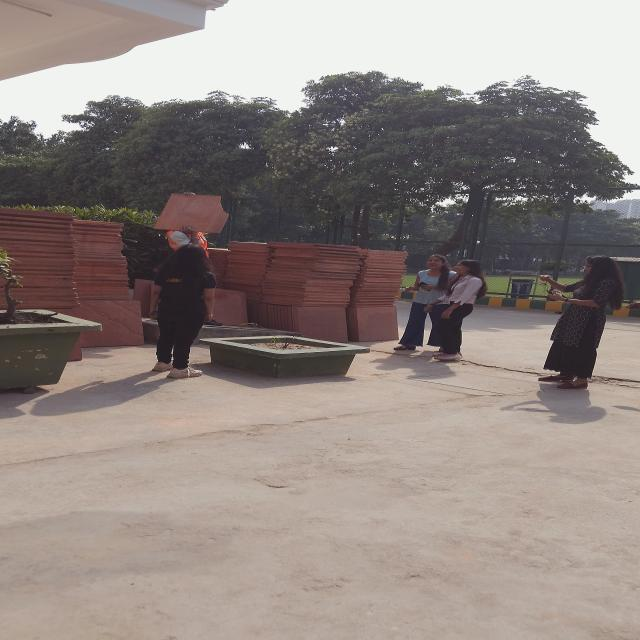unsafe: (533, 255, 624, 389), (142, 243, 214, 376), (399, 255, 451, 352), (438, 260, 482, 360)
